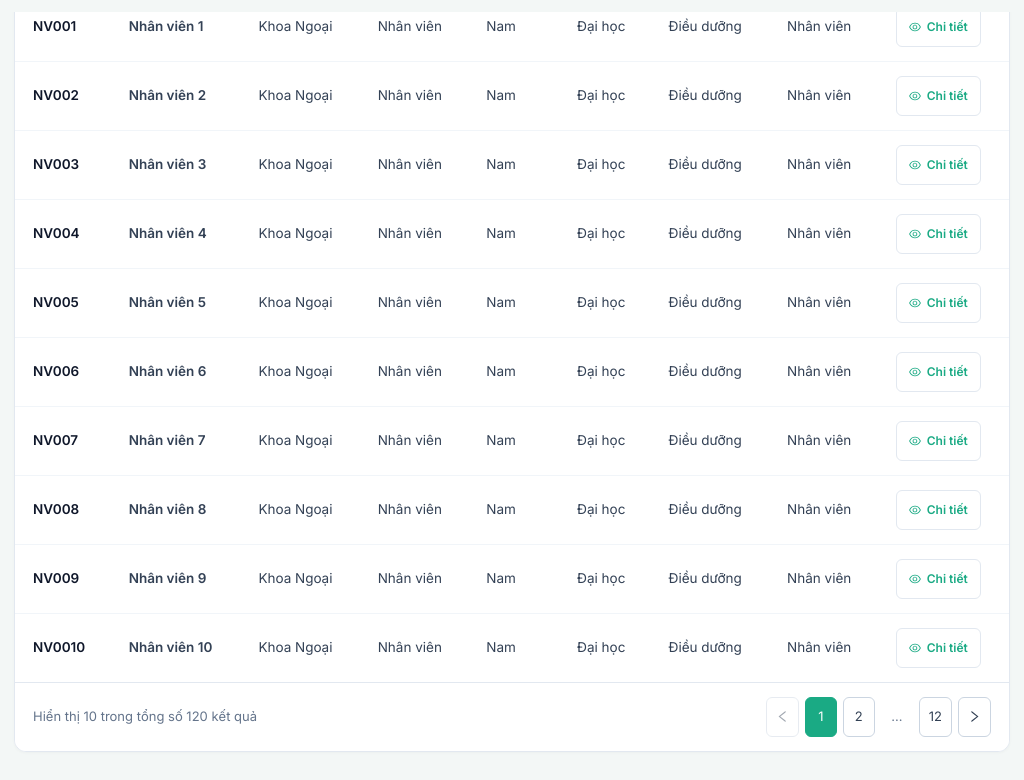
ReferenceEmployeesListPage - phân trang › rút gọn dải trang bằng dấu ba chấm
This screenshot has width=1024, height=780.
(page scrolled)
Expected: the text "Nhân viên 1" is shown, [129,18,204,34]
Expected: the text "..." is shown once, [891,708,902,724]
Click the button "12" at [935, 717], box [919,697,952,737]
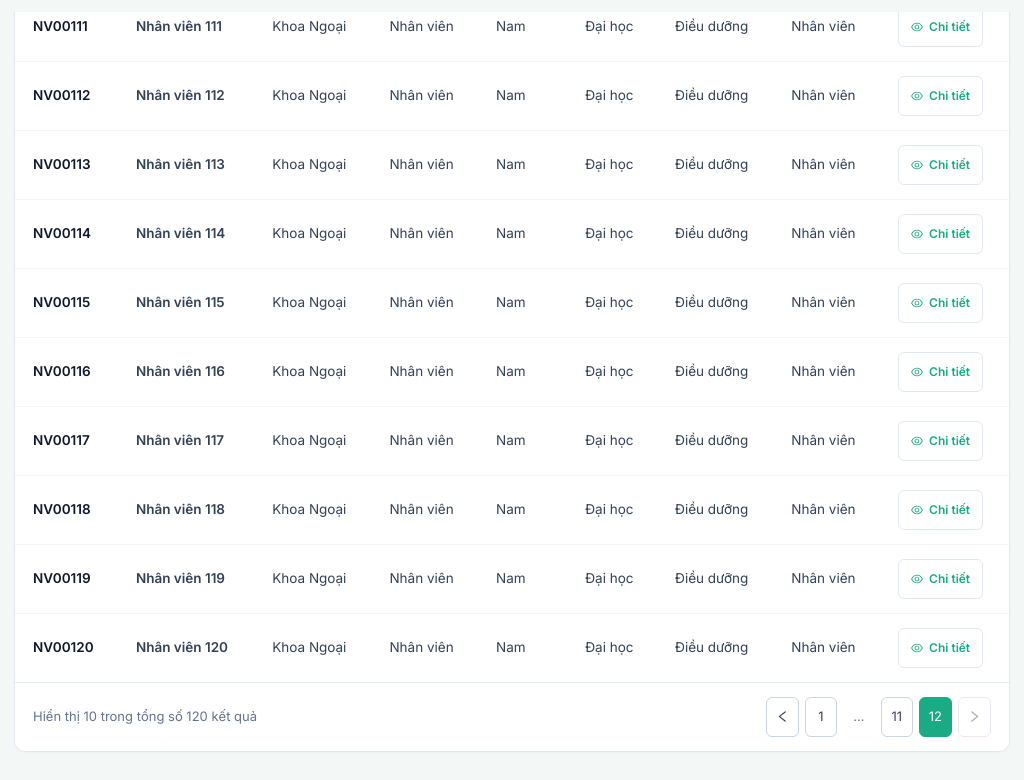
Expected: the text "Nhân viên 111" is shown, [136,18,222,34]
Click the button "11" at [897, 717], box [881,697,913,737]
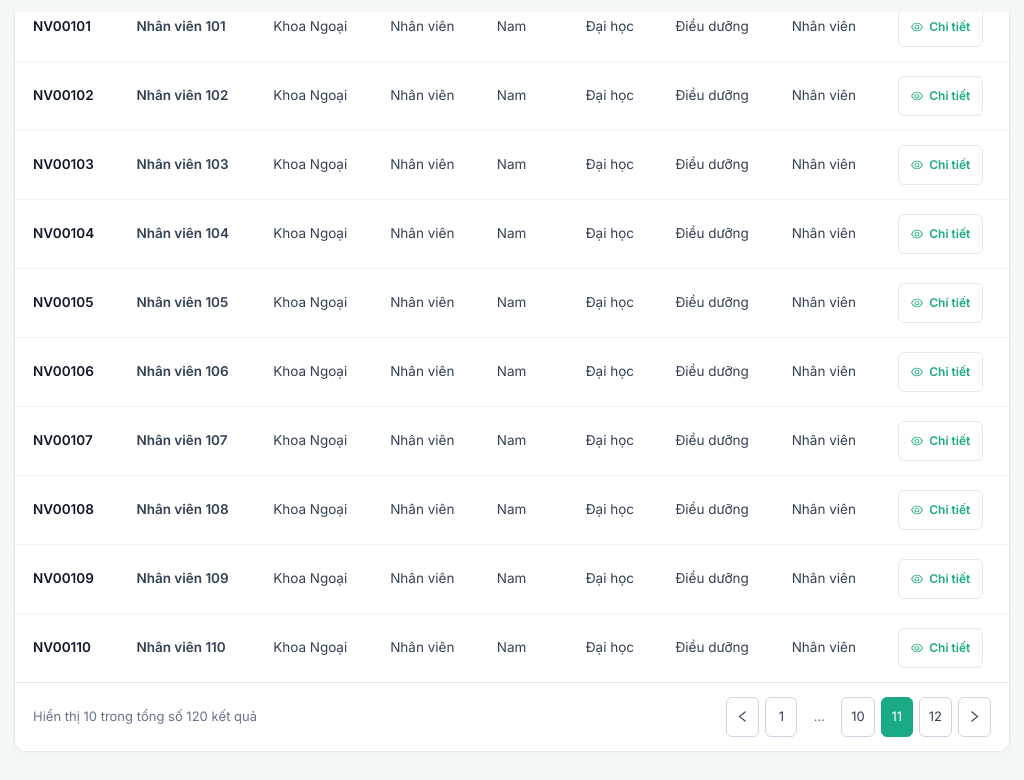
Expected: the text "..." is shown once, [814,708,825,724]
Expected: the text "Nhân viên 101" is shown, [136,18,226,34]
